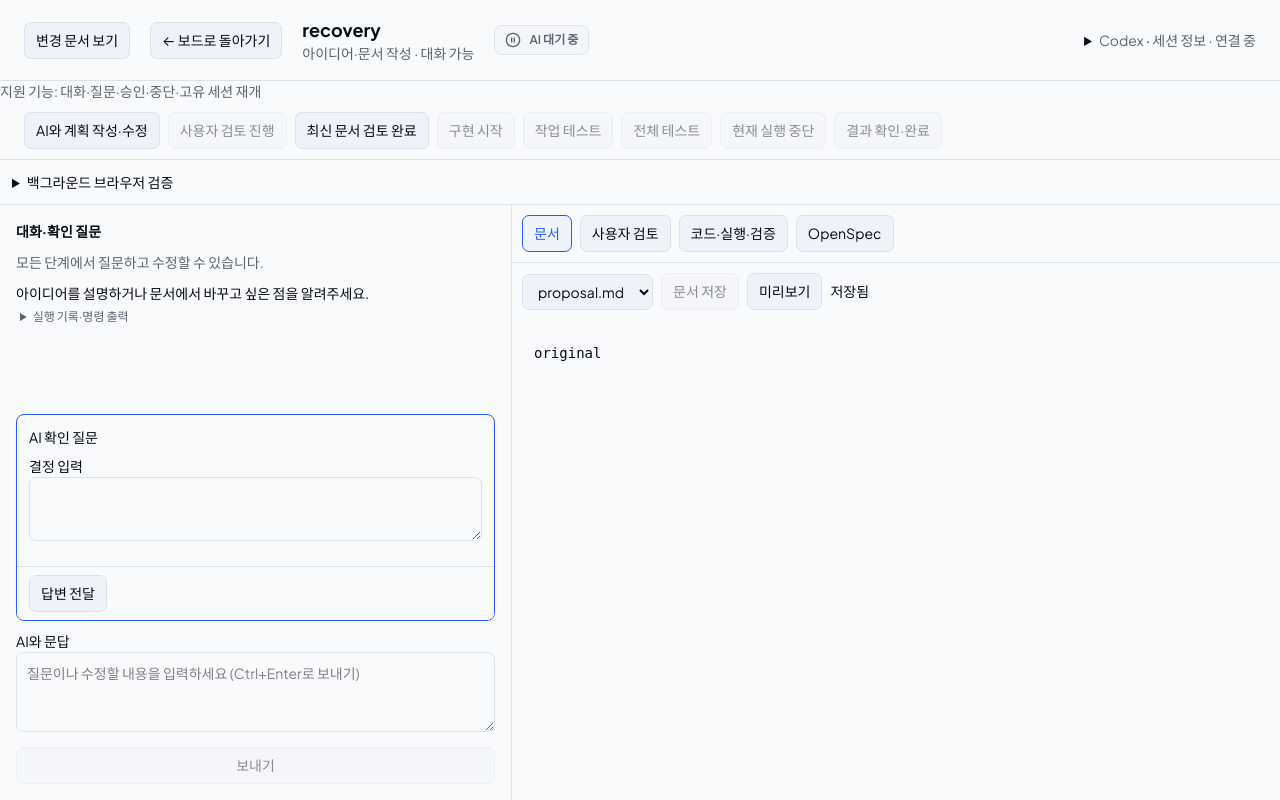
Scenario: keeps newer structured answer edits while clearing only the submitted answer snapshot
Type "first answer" into the text box labelled "결정 입력" at (256, 509), box [29,477,482,541]
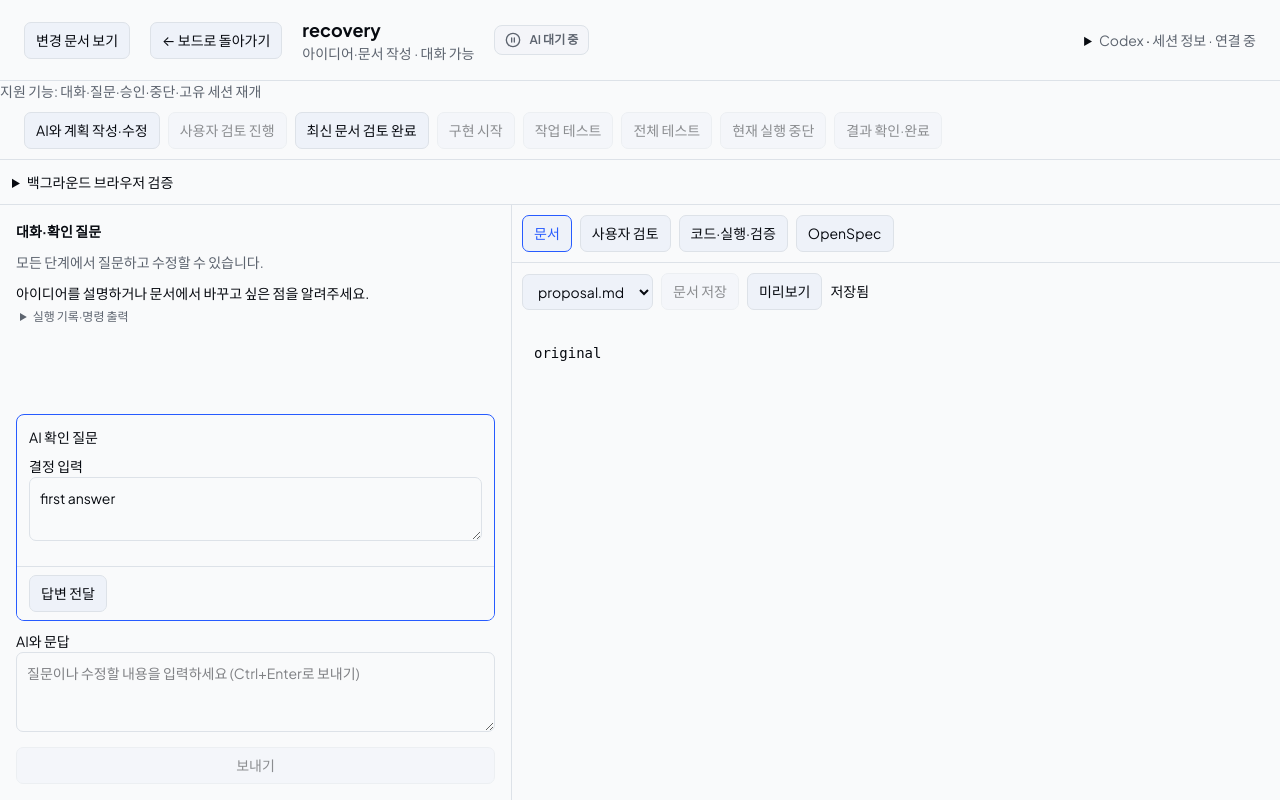
Click the button "답변 전달" at (68, 594), box [29,575,107,612]
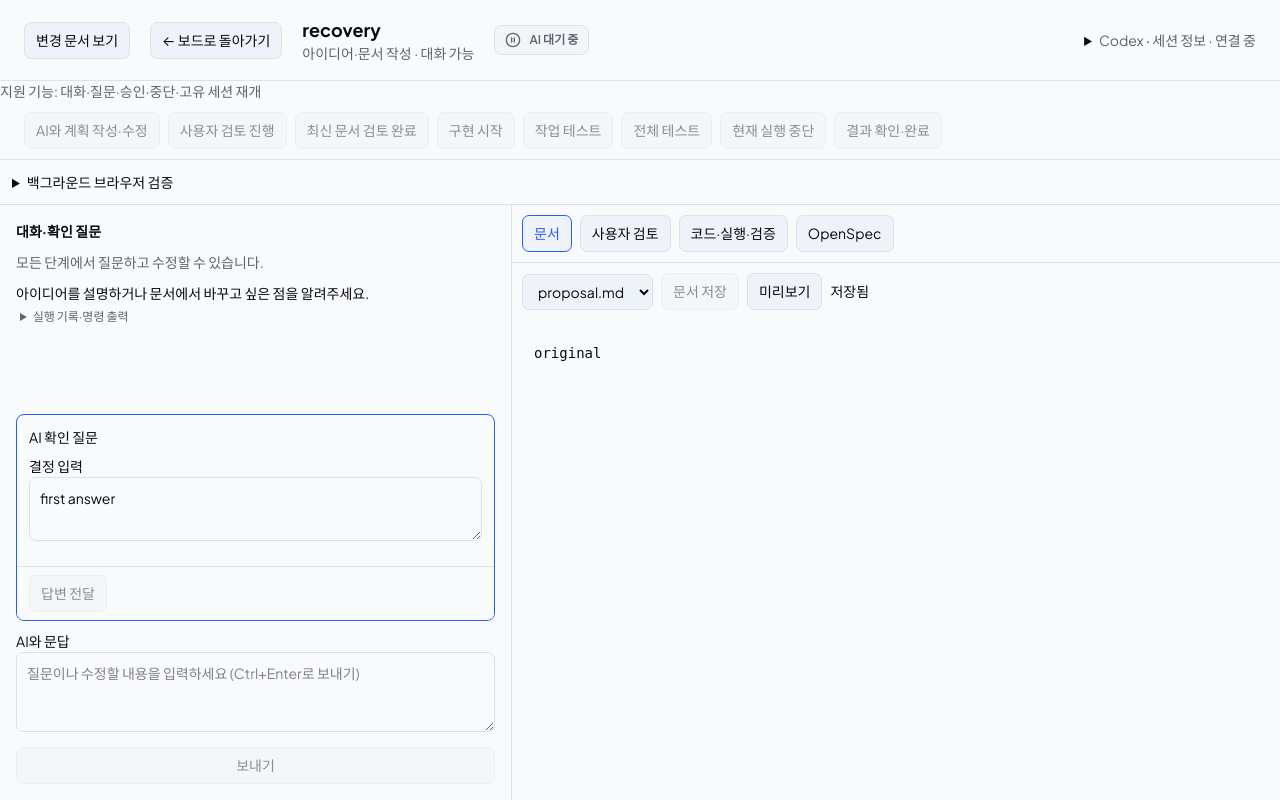
Replace the text in the text box labelled "결정 입력" with "new answer draft" at (256, 509), box [29,477,482,541]
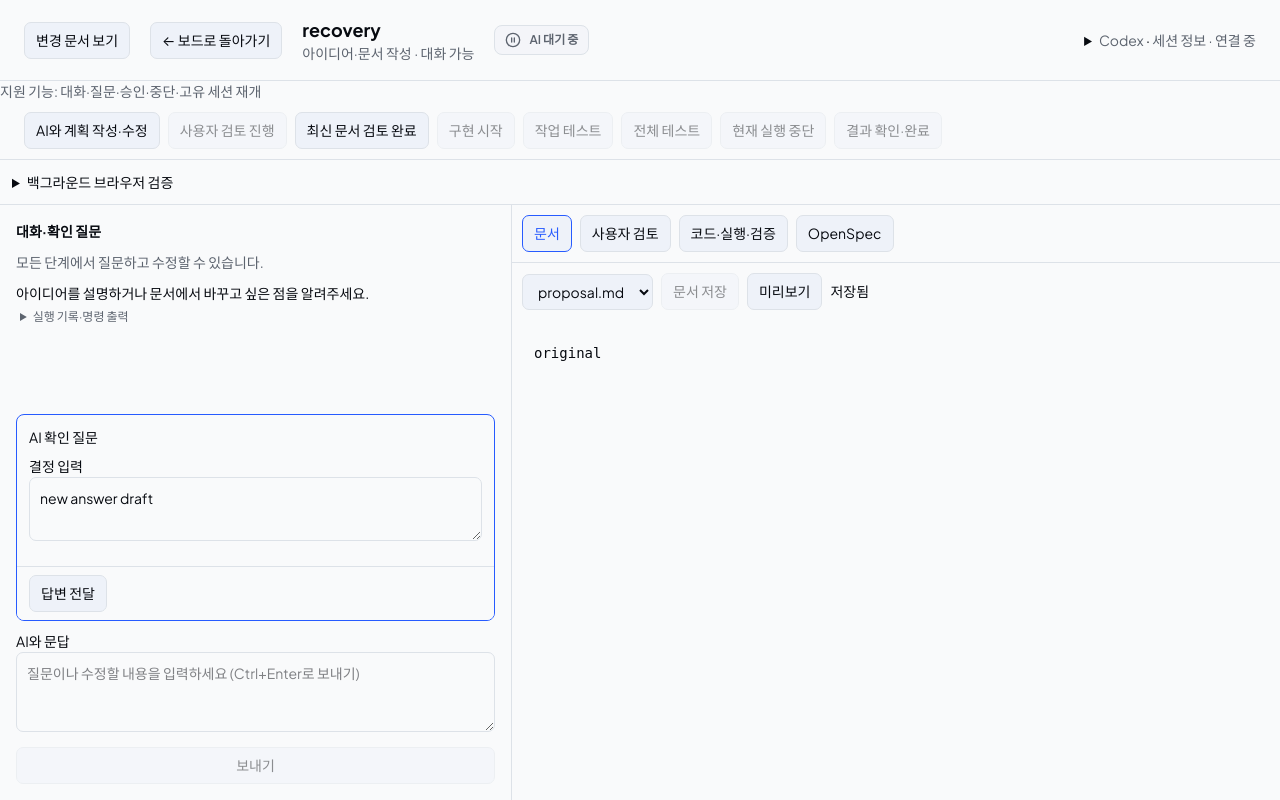
Result: the button "답변 전달" is enabled at [29,575,107,612]
